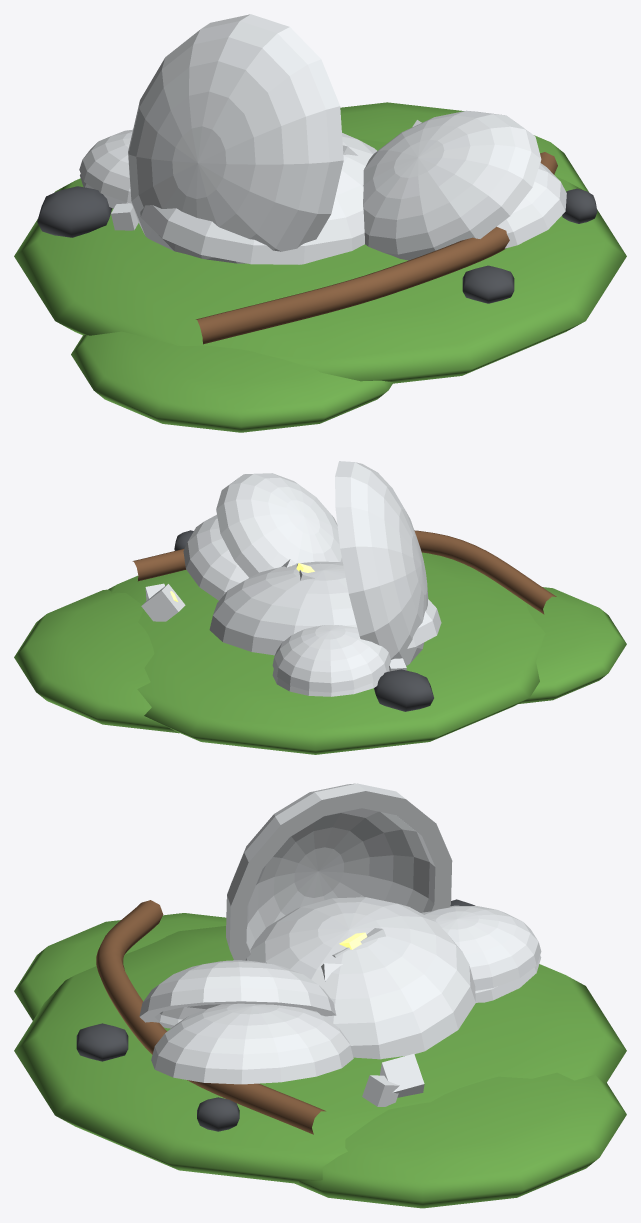
The model's file is node-salt-shell.glb.
3 renders of one model, top to bottom at view 1: azimuth 30°, elevation 25°; view 2: azimuth 150°, elevation 25°; view 3: azimuth 270°, elevation 25°, orthographic. The views are drawn at different scales.
Parts seen in each view (by area): view 1: Mesh_BaseSand1, Mesh_MainTop, Mesh_BaseSand3, Mesh_MedTop, Mesh_Driftwood, Mesh_MainBottom, Mesh_BaseSand2, Mesh_Pebble1, Mesh_MedBottom, Mesh_SmallTop, Mesh_Pebble3, Mesh_Pebble2 (+1 smaller); view 2: Mesh_BaseSand1, Mesh_BaseSand2, Mesh_MainTop, Mesh_MainBottom, Mesh_MedTop, Mesh_BaseSand3, Mesh_SmallTop, Mesh_Driftwood, Mesh_MedBottom, Mesh_Pebble1, Mesh_LooseSalt1, Mesh_SmallBottom; view 3: Mesh_BaseSand1, Mesh_BaseSand2, Mesh_MainTop, Mesh_MainBottom, Mesh_MedBottom, Mesh_MedTop, Mesh_Driftwood, Mesh_SmallTop, Mesh_BaseSand3, Mesh_Pebble3, Mesh_LooseSalt1, Mesh_Pebble2 (+2 smaller).
Part boxes in pixels (x1,y1,x2,y2): Mesh_BaseSand1: [14, 138, 626, 383]; Mesh_MainTop: [128, 14, 343, 263]; Mesh_BaseSand3: [71, 331, 393, 432]; Mesh_MedTop: [363, 110, 541, 260]; Mesh_Driftwood: [196, 152, 557, 344]; Mesh_MainBottom: [140, 133, 376, 264]; Mesh_BaseSand2: [340, 102, 589, 192]; Mesh_Pebble1: [37, 186, 112, 237]; Mesh_MedBottom: [497, 163, 566, 248]; Mesh_SmallTop: [79, 129, 132, 203]; Mesh_Pebble3: [462, 265, 514, 303]; Mesh_Pebble2: [562, 188, 597, 223]; Mesh_BaseSand1: [108, 552, 545, 754]; Mesh_BaseSand2: [14, 589, 179, 733]; Mesh_MainTop: [335, 461, 428, 665]; Mesh_MainBottom: [209, 561, 441, 655]; Mesh_MedTop: [216, 473, 342, 577]; Mesh_BaseSand3: [519, 587, 626, 703]; Mesh_SmallTop: [272, 625, 390, 692]; Mesh_Driftwood: [132, 530, 556, 614]; Mesh_MedBottom: [183, 514, 248, 600]; Mesh_Pebble1: [374, 669, 433, 711]; Mesh_LooseSalt1: [141, 584, 185, 621]; Mesh_SmallBottom: [272, 667, 389, 696]; Mesh_BaseSand1: [14, 926, 626, 1183]; Mesh_BaseSand2: [295, 1072, 626, 1208]; Mesh_MainTop: [226, 783, 452, 960]; Mesh_MainBottom: [245, 897, 475, 1059]; Mesh_MedBottom: [151, 1003, 353, 1084]; Mesh_MedTop: [139, 960, 336, 1028]; Mesh_Driftwood: [96, 900, 325, 1134]; Mesh_SmallTop: [421, 905, 541, 990]; Mesh_BaseSand3: [14, 913, 226, 1020]; Mesh_Pebble3: [76, 1023, 128, 1061]; Mesh_LooseSalt1: [380, 1054, 424, 1097]; Mesh_Pebble2: [197, 1097, 239, 1131].
Size of the model in its own units: 1 by 0.4539 by 0.9.
Materials: 2 (2 with a texture image).
